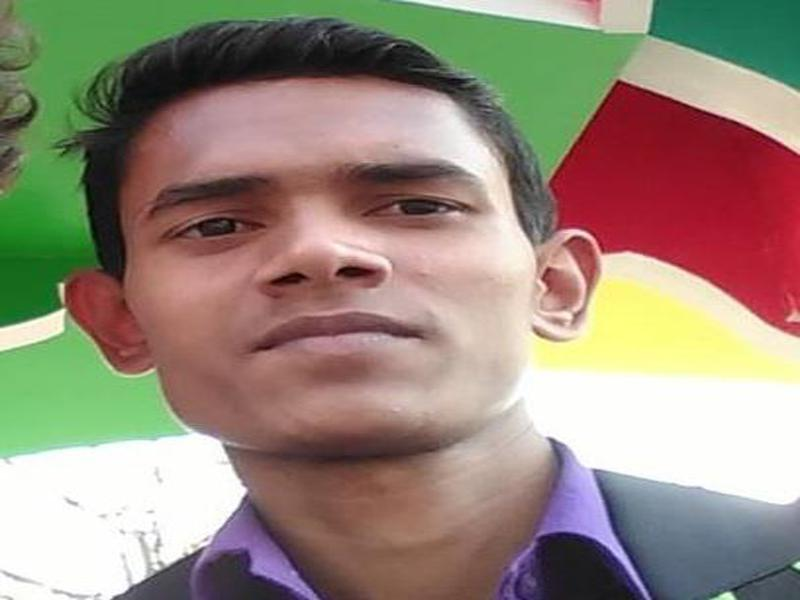without_mask: (119, 78, 536, 451)
